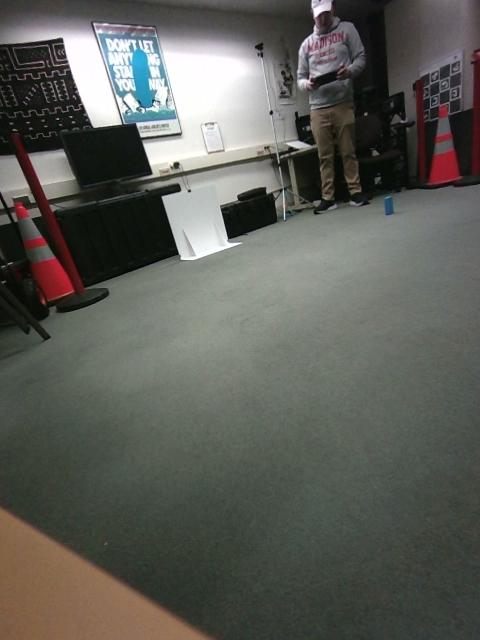block: (380, 286, 431, 357)
